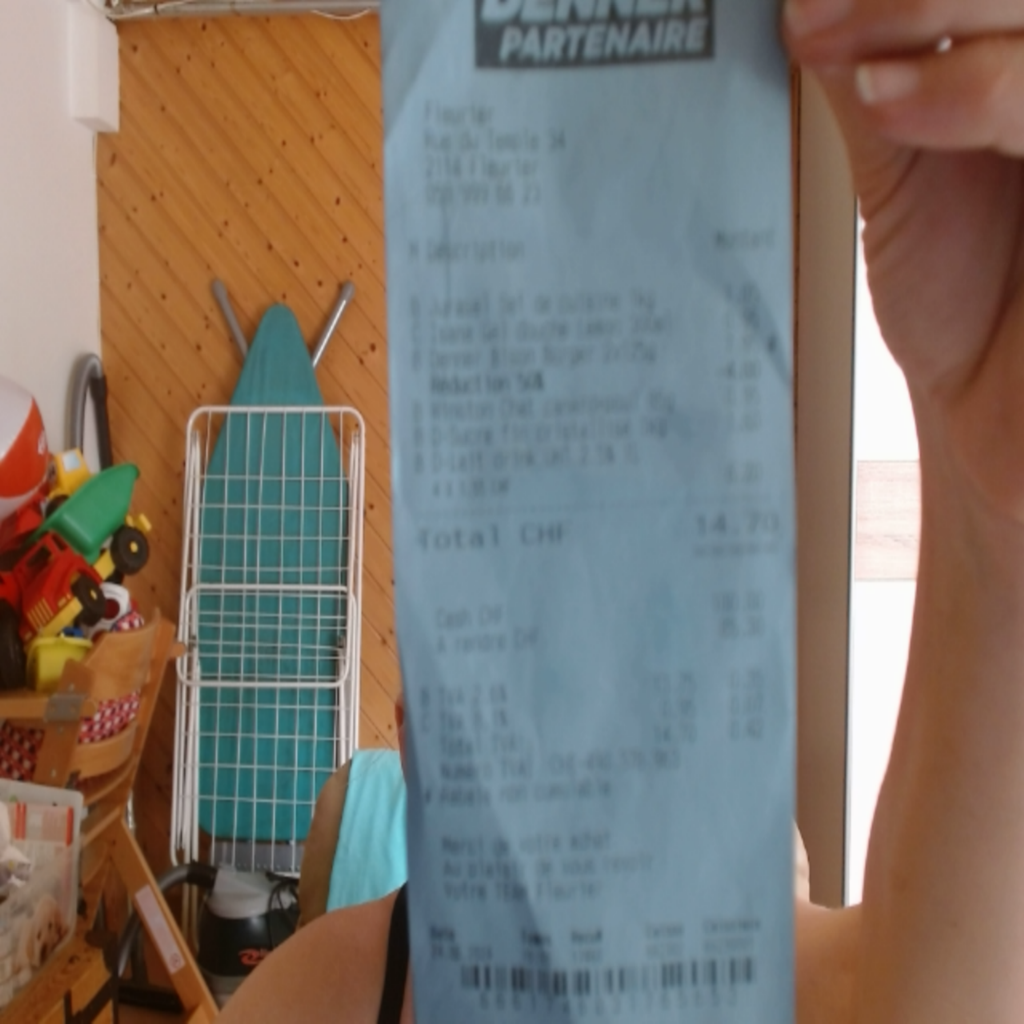recipt: (376, 0, 795, 1016)
